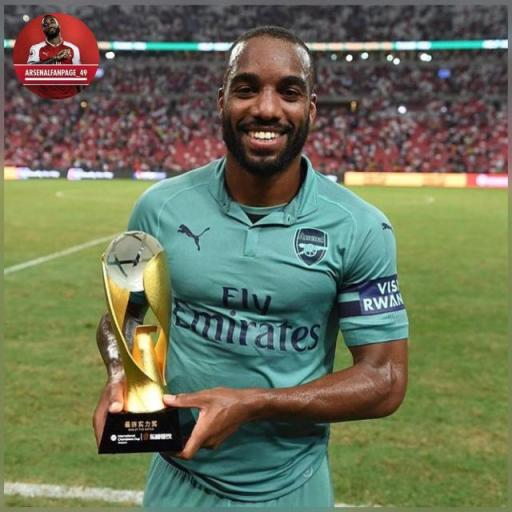Emirates: (168, 280, 322, 358)
